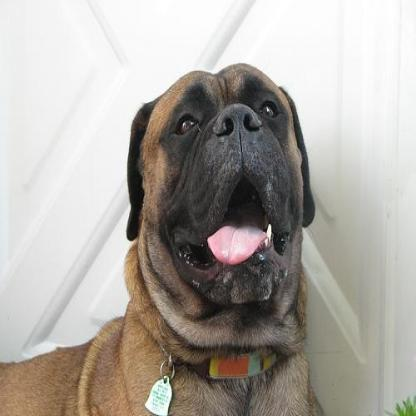bull_mastiff: (0, 61, 314, 413)
